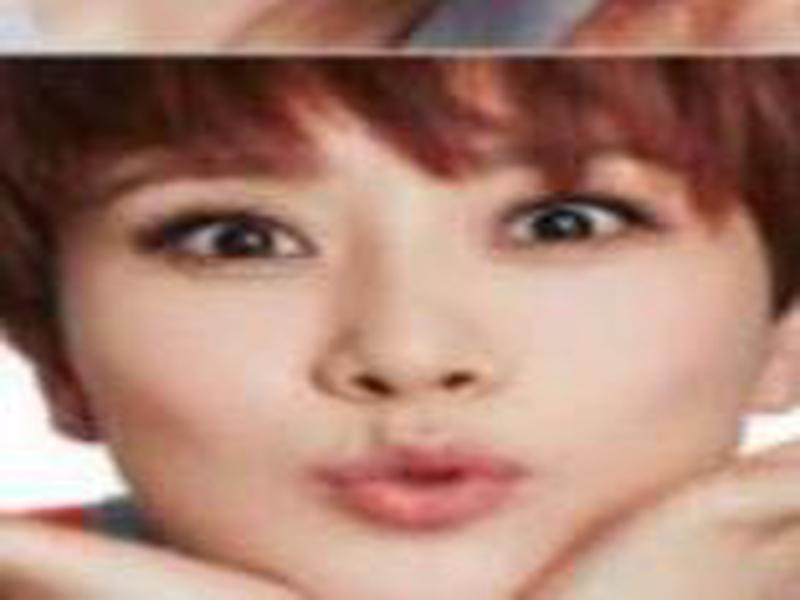without_mask: (50, 134, 782, 599)
